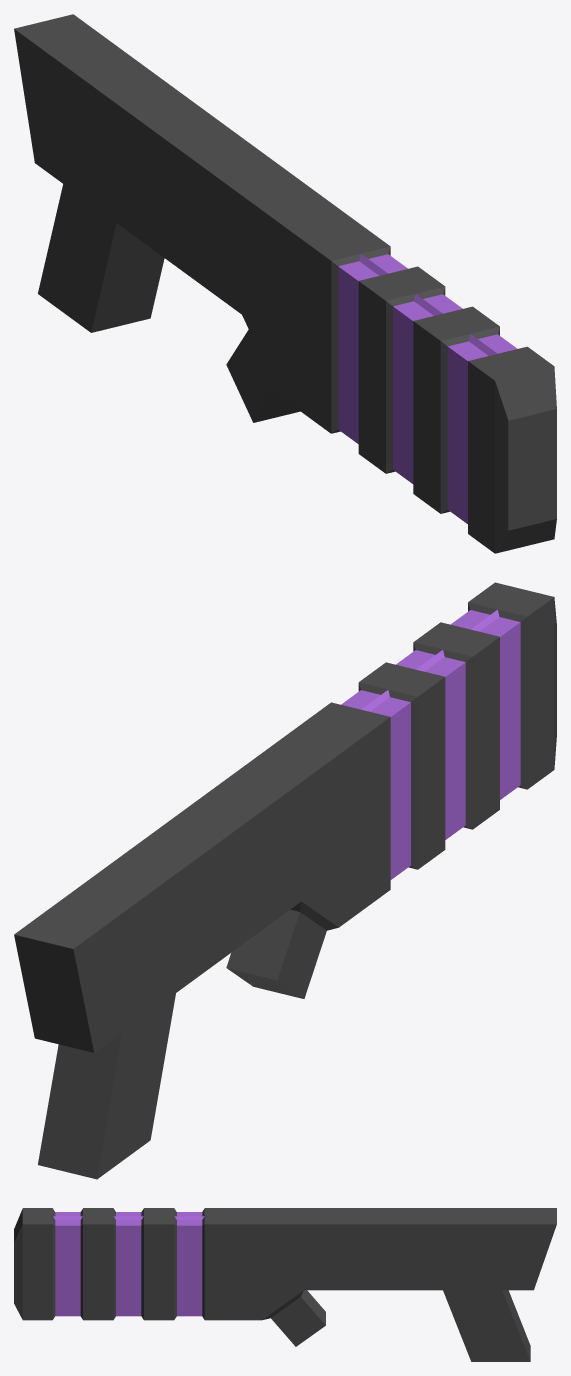
File: Player Gun .fbx
3 renders of one model, top to bottom at view 1: azimuth 30°, elevation 25°; view 2: azimuth 150°, elevation 25°; view 3: azimuth 270°, elevation 25°, orthographic. The views are drawn at different scales.
Visible parts, largest first — view 1: Cube; view 2: Cube; view 3: Cube.
Boxes of the visible parts, x1,y1,x2,y2 form: Cube: (14,14,556,553); Cube: (14,582,556,1179); Cube: (14,1208,556,1361).
Size of the model in its own units: 11.87 by 47.32 by 169.
